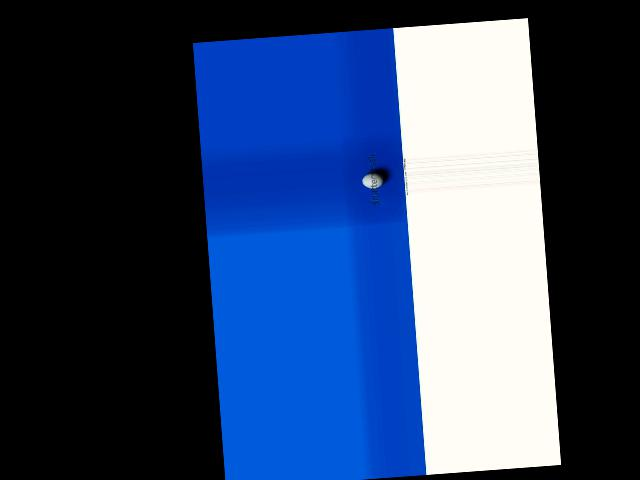egg: (361, 171, 384, 188)
